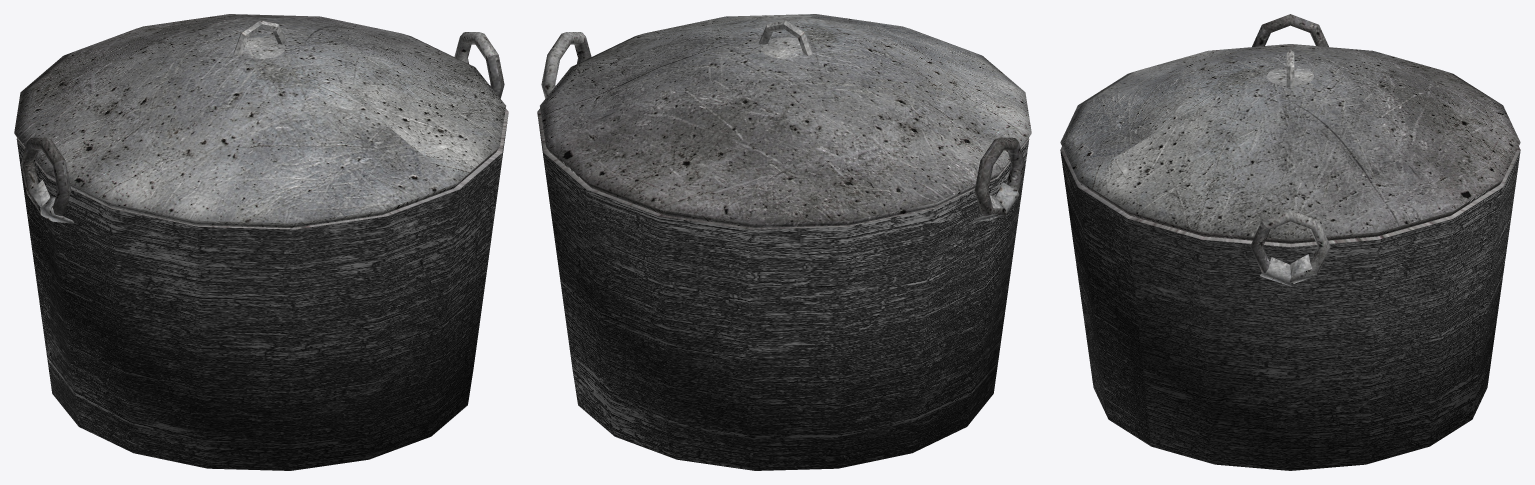
File: cooker.fbx
The picture shows the model from 3 angles, left to right: view 1: azimuth 30°, elevation 25°; view 2: azimuth 150°, elevation 25°; view 3: azimuth 270°, elevation 25°; orthographic projection. The views are drawn at different scales.
Visible parts, largest first — view 1: Cylinder.004; view 2: Cylinder.004; view 3: Cylinder.004.
Boxes of the visible parts, left/top/right/bottom form: Cylinder.004: left=14, top=14, right=508, bottom=470; Cylinder.004: left=537, top=14, right=1031, bottom=470; Cylinder.004: left=1060, top=14, right=1520, bottom=470.
Bounding box in the file's own units: 22.73 × 21.95 × 18.73.
2 materials, 2 textured.
